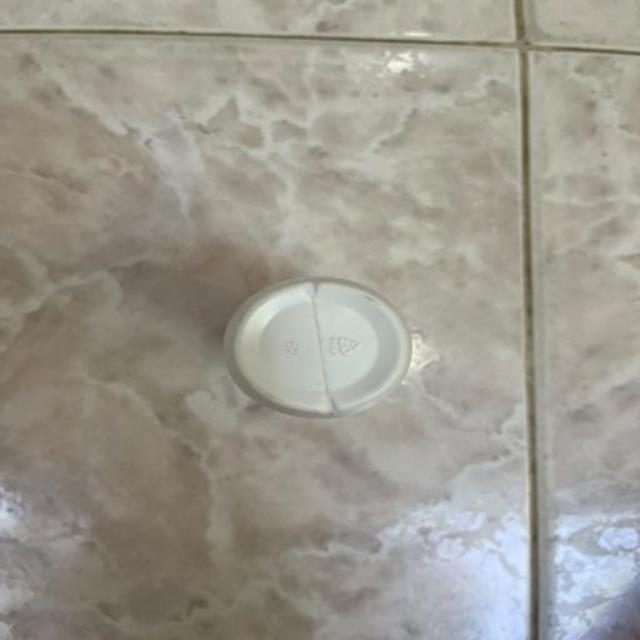HDPE: (202, 272, 529, 443)
